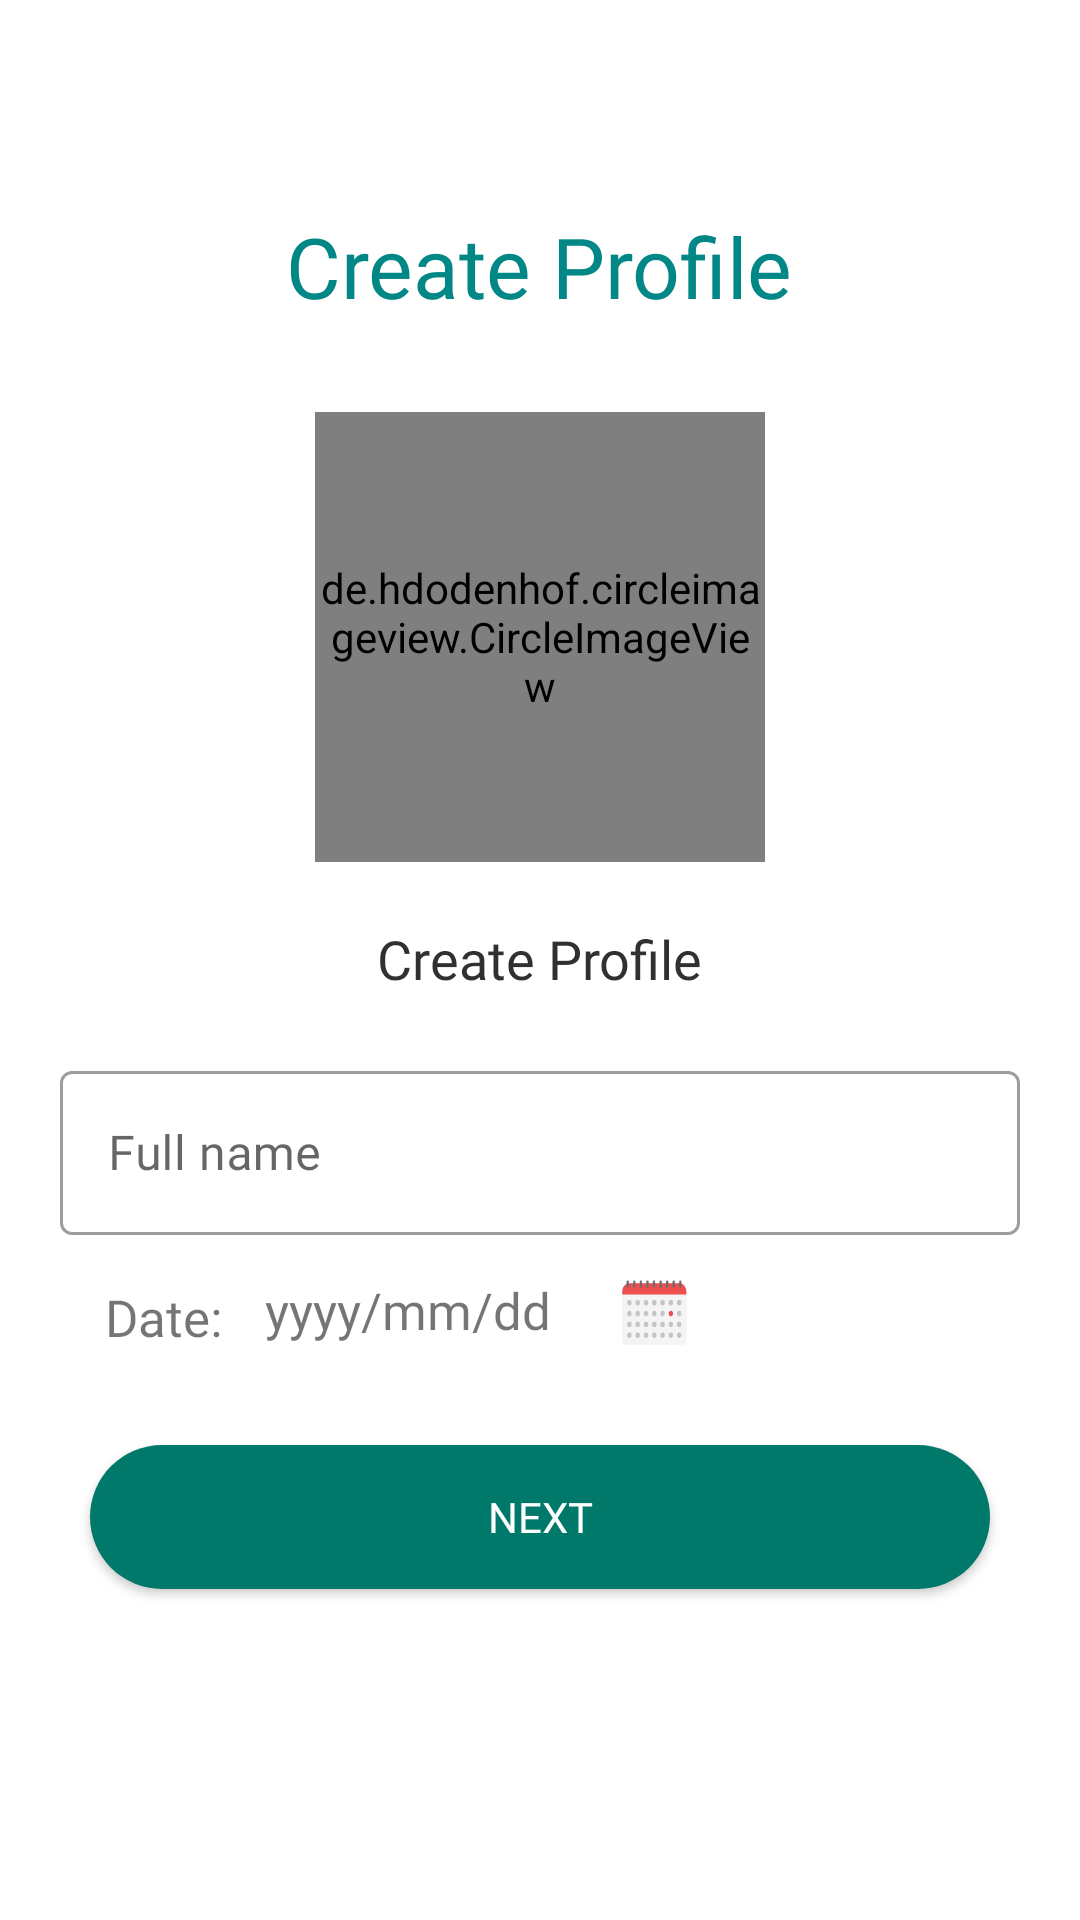

Where to tap for icons on this 1080px×1920px app screen, as [x,y]:
buttom calender: [654,1312]
